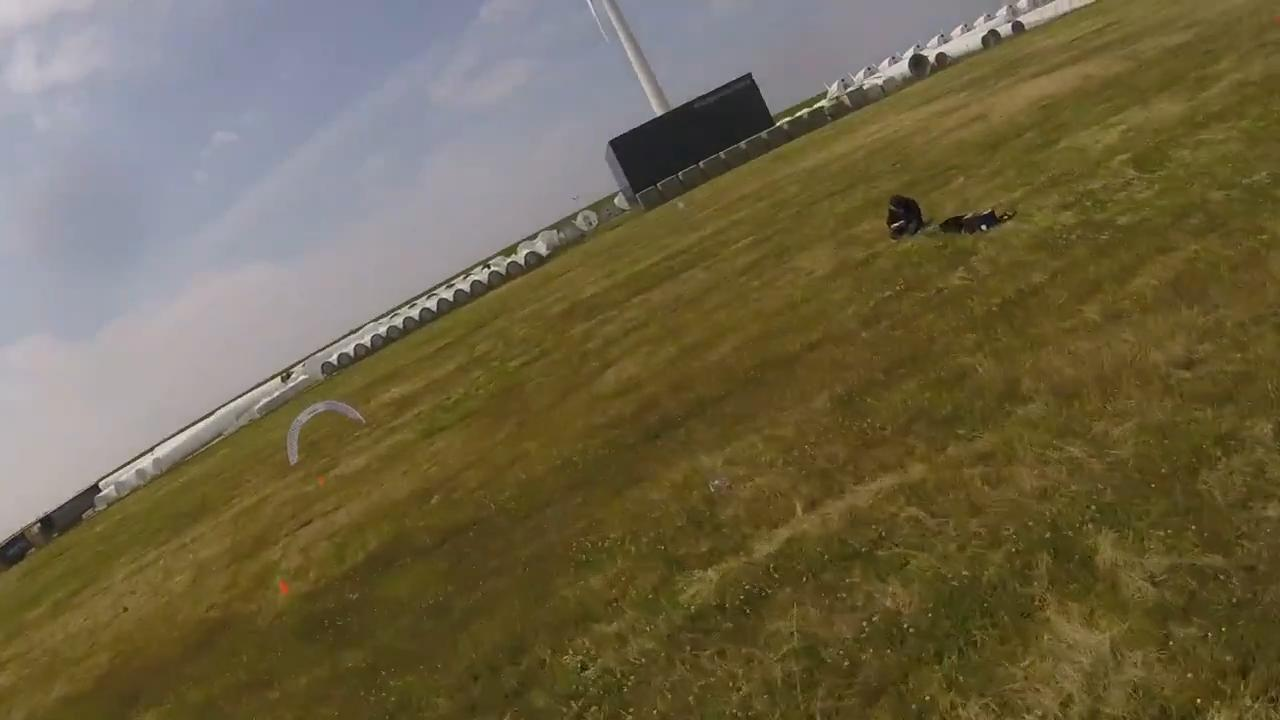gate: (285, 400, 364, 465)
